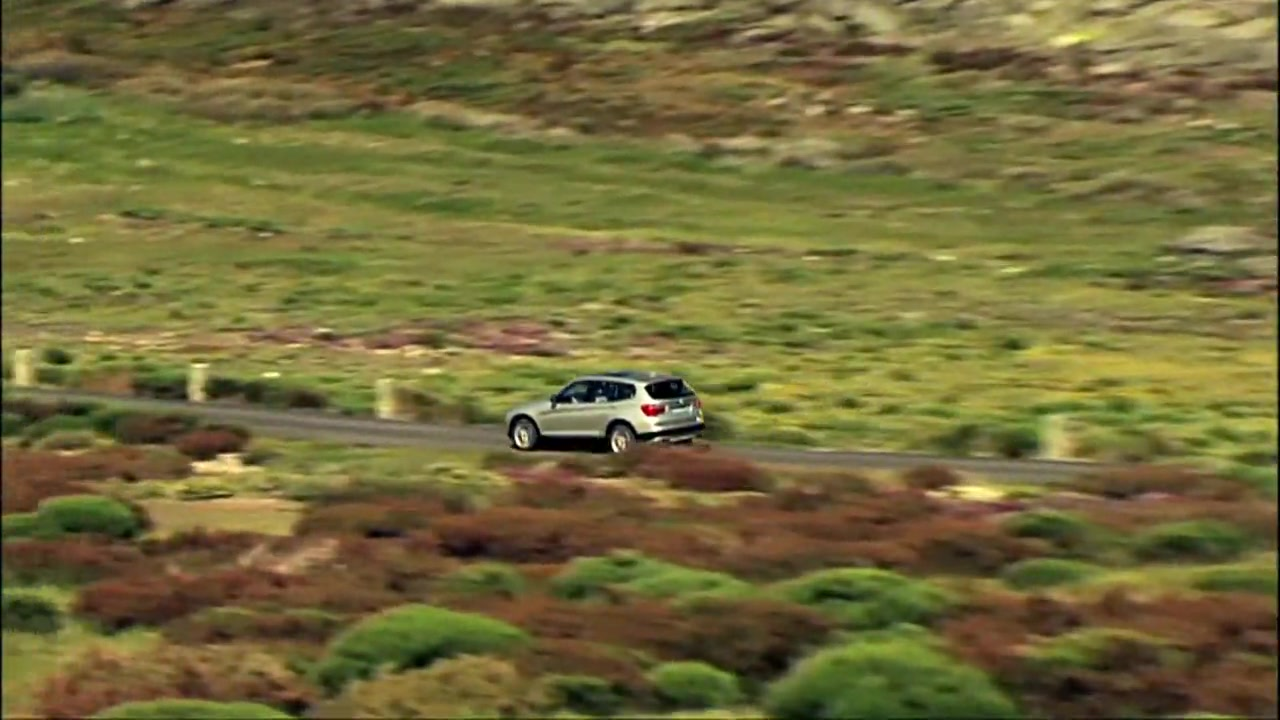car: (500, 369, 711, 462)
